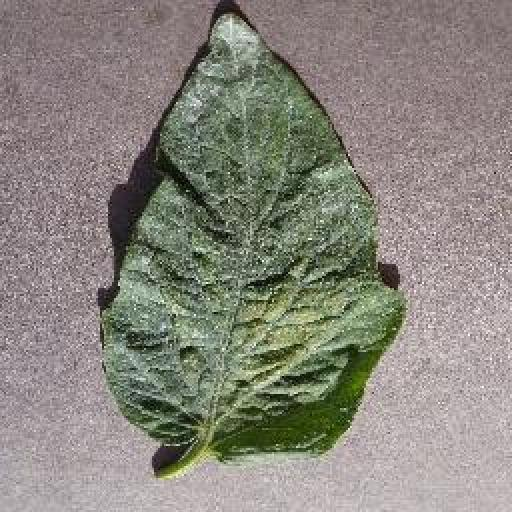Spider Mites: (103, 7, 407, 461)
